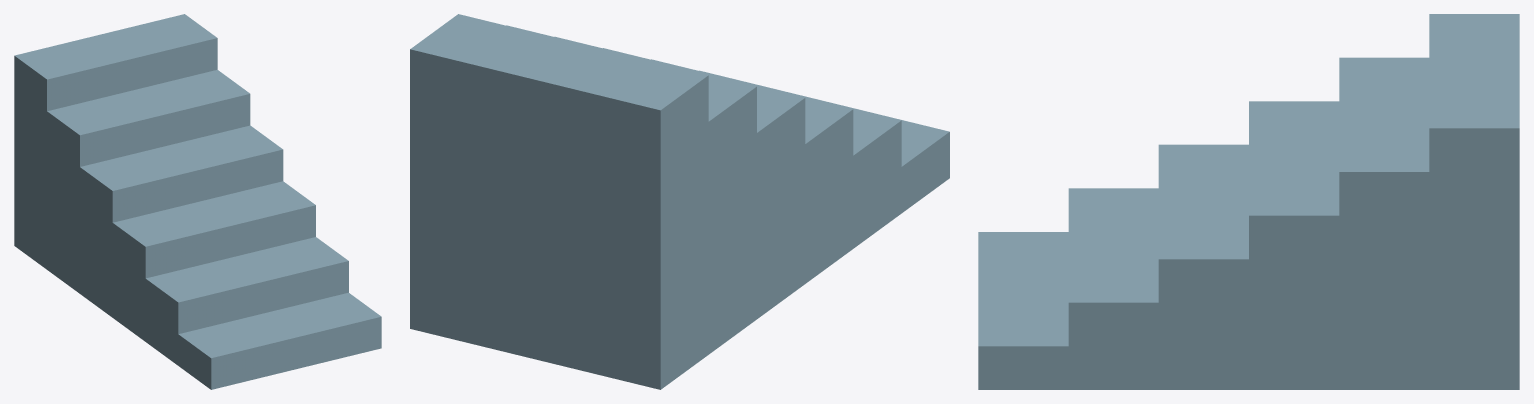
Rendered from prop-stairs.glb.
3 renders of one model, left to right at view 1: azimuth 30°, elevation 25°; view 2: azimuth 150°, elevation 25°; view 3: azimuth 270°, elevation 25°, orthographic. The views are drawn at different scales.
Visible parts, largest first — view 1: step-6, step-5, step-4, step-3, step-2, step-1; view 2: step-6, step-5, step-4, step-3, step-2, step-1; view 3: step-6, step-5, step-4, step-3, step-2, step-1.
Boxes of the visible parts, x1,y1,x2,y2 form: step-6: (14,14,217,269); step-5: (47,70,250,293); step-4: (80,125,283,317); step-3: (112,181,315,341); step-2: (145,237,348,365); step-1: (178,292,381,389); step-6: (410,14,708,389); step-5: (506,25,756,354); step-4: (554,36,805,318); step-3: (603,48,853,283); step-2: (651,59,901,248); step-1: (699,70,949,212); step-6: (1429,14,1519,389); step-5: (1339,57,1429,389); step-4: (1249,101,1339,389); step-3: (1158,144,1248,389); step-2: (1068,188,1158,389); step-1: (978,232,1068,389).
Bounding box in the file's own units: 0.9 × 0.96 × 1.8.
